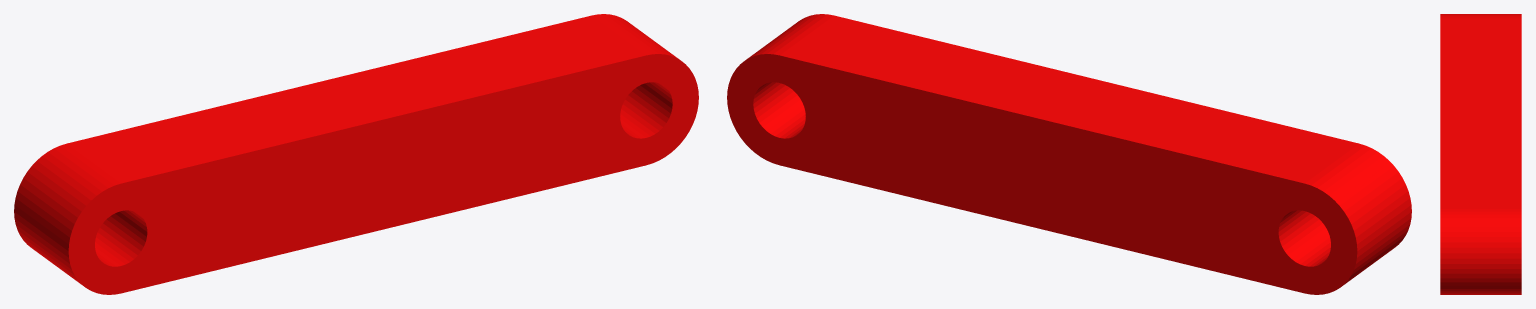
The model's file is upper_side_leg.dae.
3 renders of one model, left to right at view 1: azimuth 30°, elevation 25°; view 2: azimuth 150°, elevation 25°; view 3: azimuth 270°, elevation 25°, orthographic. The views are drawn at different scales.
Parts seen in each view (by area): view 1: Upper Side Leg; view 2: Upper Side Leg; view 3: Upper Side Leg.
Part boxes in pixels (x1,y1,x2,y2): Upper Side Leg: (14,14,698,294); Upper Side Leg: (727,14,1411,294); Upper Side Leg: (1440,14,1521,294).
Bounding box in the file's own units: 0.12 × 0.018 × 0.02.
